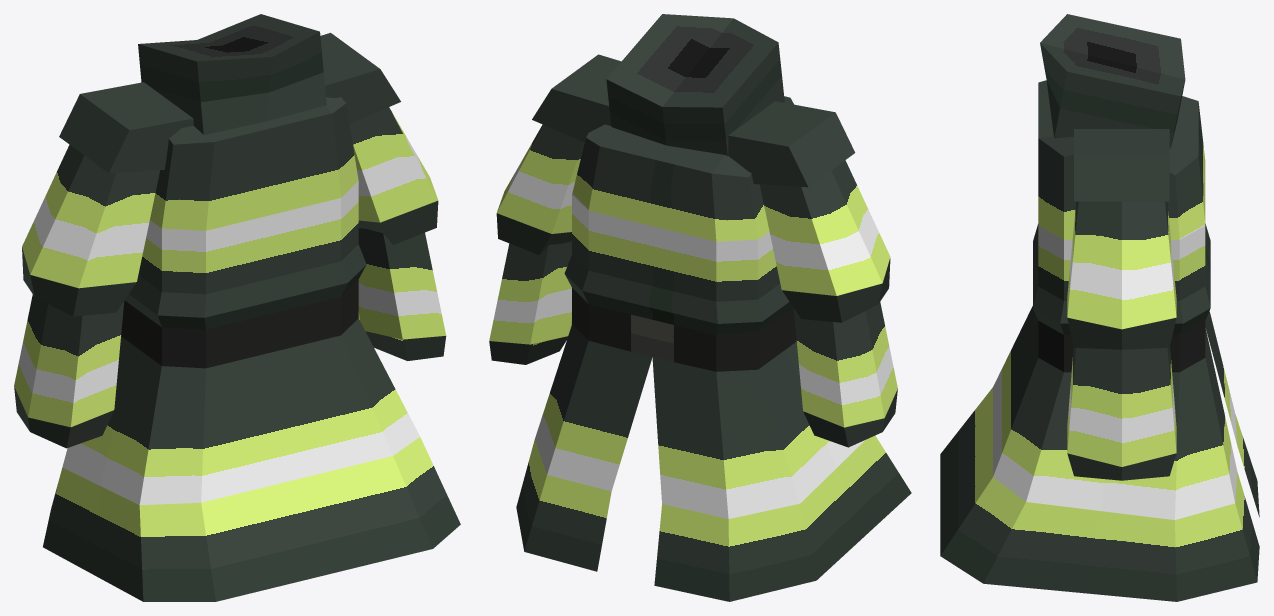
Rendered from armor.gltf.
3 renders of one model, left to right at view 1: azimuth 30°, elevation 25°; view 2: azimuth 150°, elevation 25°; view 3: azimuth 270°, elevation 25°, orthographic. The views are drawn at different scales.
Parts seen in each view (by area): view 1: cuboid (×8), cuboid_selection; view 2: cuboid (×8), cuboid_selection; view 3: cuboid (×5), cuboid_selection.
Part boxes in pixels (x1=…): cuboid (×8): x1=14, y1=14, x2=446, y2=448; cuboid_selection: x1=43, y1=280, x2=460, y2=601; cuboid (×8): x1=489, y1=14, x2=897, y2=447; cuboid_selection: x1=516, y1=288, x2=911, y2=601; cuboid (×5): x1=1033, y1=14, x2=1210, y2=480; cuboid_selection: x1=940, y1=306, x2=1259, y2=601.
Size of the model in its own units: 1.03 by 1.24 by 0.7306.
Materials: 6 (6 with a texture image).
